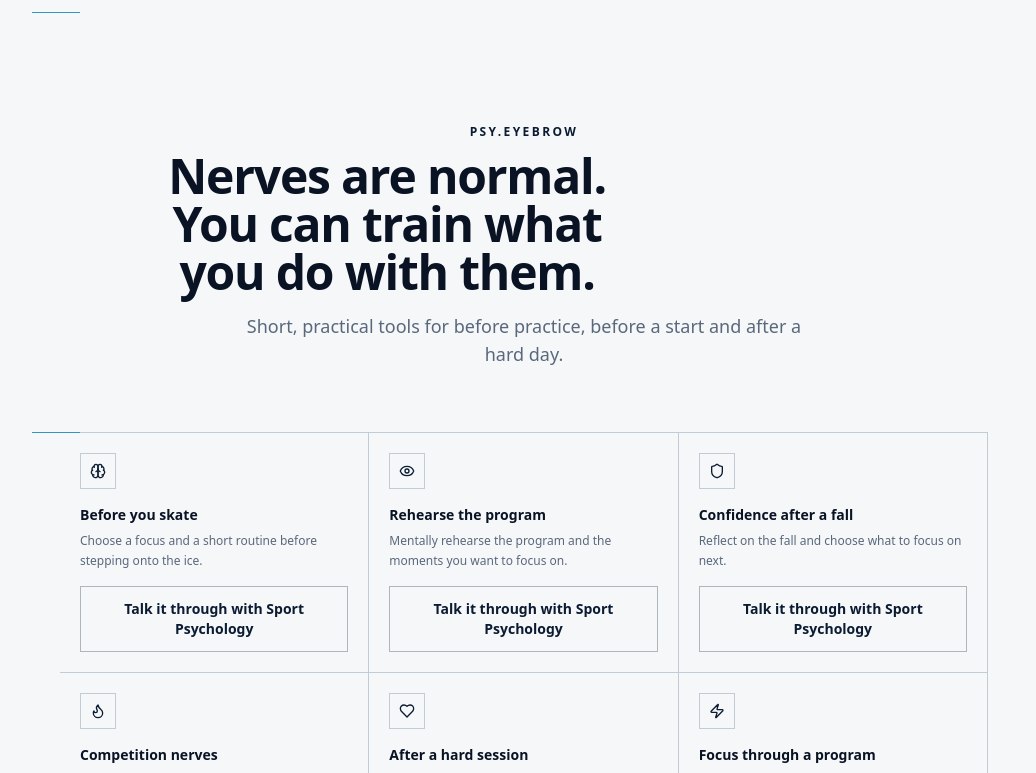
Test: public psychology entry › takes signed-out visitors to signup with the psychology destination
Click the button "Talk it through with Sport Psychology" below "Before you skate": (214, 619) [80,586,348,652]
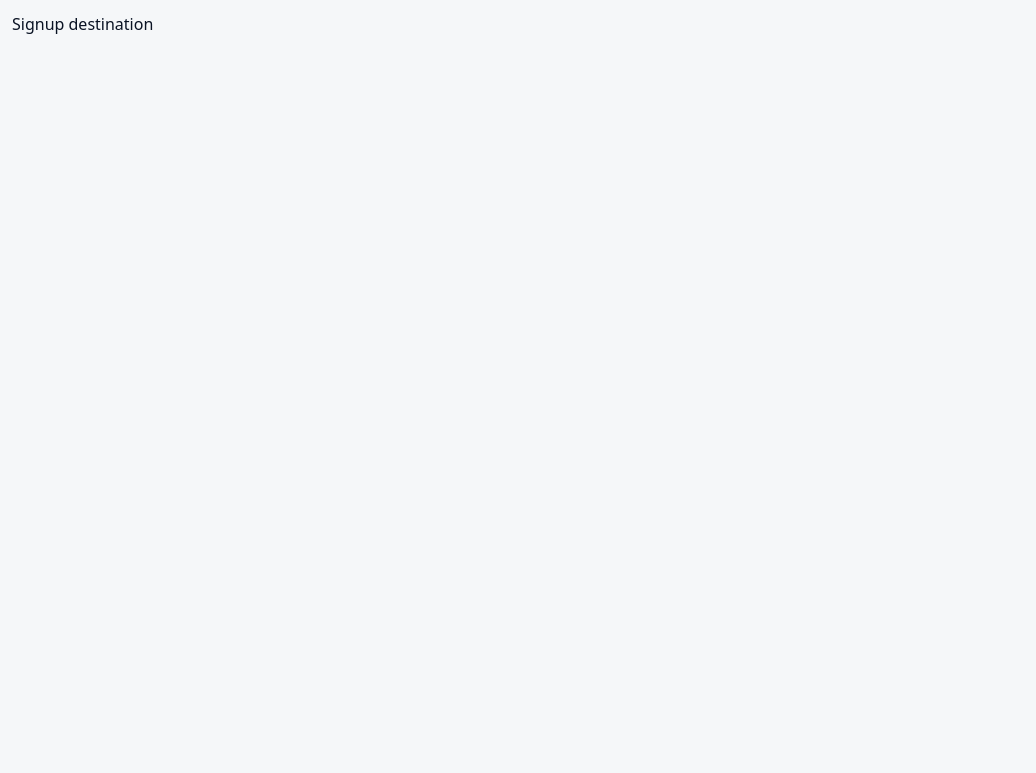
Expected: the text "Signup destination" is shown, [12,13,153,35]
